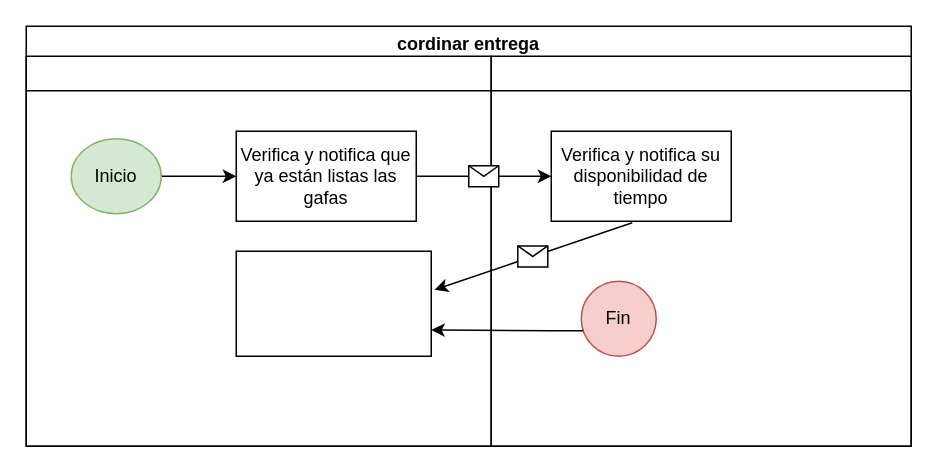
Some shapes in this 938 by 473 pixel diagram are drawn without their labels. Each missing label, with the box of its shape:
administrador: (25, 55, 491, 446)
cliente: (490, 55, 911, 446)
Verifica disponibilidad y acuerdan lugar y hora de encuentro: (235, 250, 431, 356)
